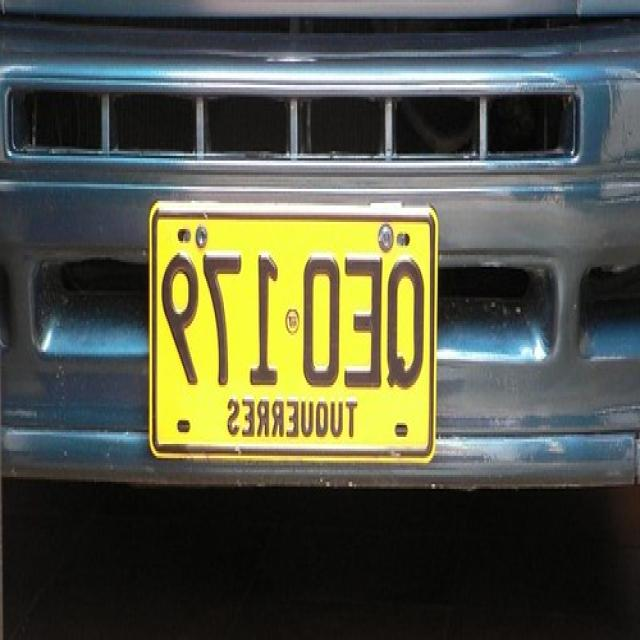placas: (157, 236, 433, 393)
